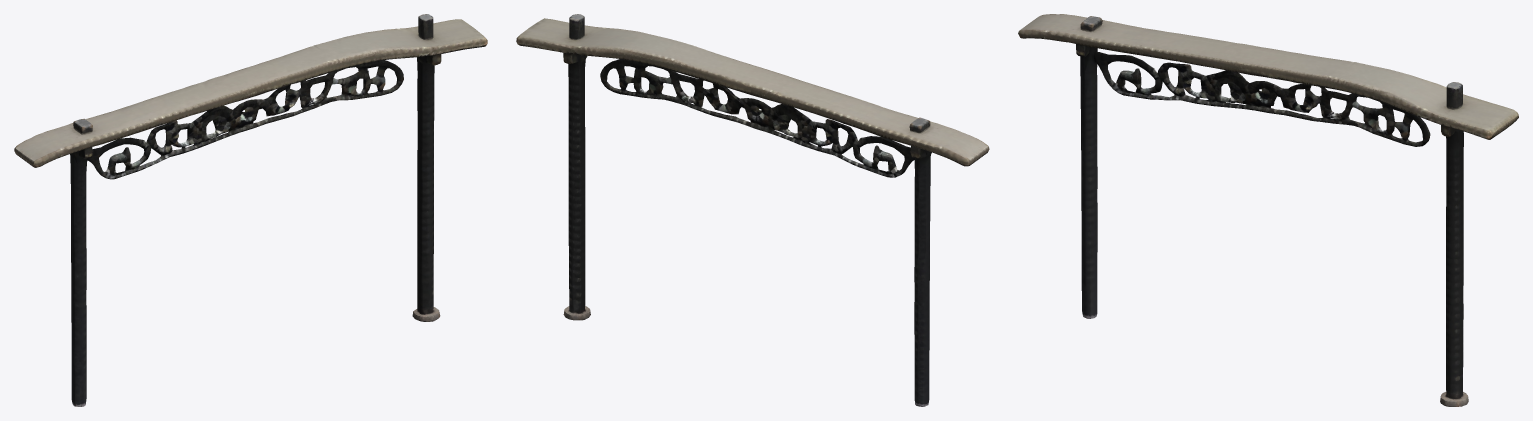
The picture shows the model from 3 angles, left to right: view 1: azimuth 30°, elevation 25°; view 2: azimuth 150°, elevation 25°; view 3: azimuth 330°, elevation 25°; orthographic projection. The views are drawn at different scales.
Visible parts, largest first — view 1: railing-statue; view 2: railing-statue; view 3: railing-statue.
Part boxes in pixels (x1,y1,x2,y2): railing-statue: (14, 14, 487, 406); railing-statue: (516, 14, 989, 406); railing-statue: (1018, 14, 1518, 406).
Bounding box in the file's own units: 1.56 × 0.9998 × 0.1689.
Materials: 1 (1 with a texture image).
